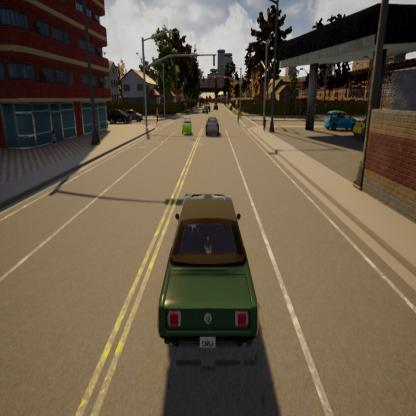Cars: (144, 176, 269, 376), (324, 101, 358, 133), (179, 109, 195, 150), (104, 102, 127, 125), (351, 110, 368, 139), (204, 114, 222, 141), (127, 103, 144, 126), (200, 97, 212, 114), (212, 98, 221, 114)
Pedestrian: (235, 106, 244, 134), (153, 106, 162, 131), (262, 112, 270, 138)
